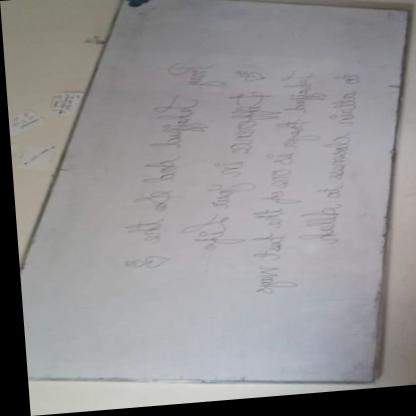Handwritten text: (102, 49, 229, 265), (233, 66, 332, 314), (172, 79, 281, 272), (287, 65, 373, 265)
